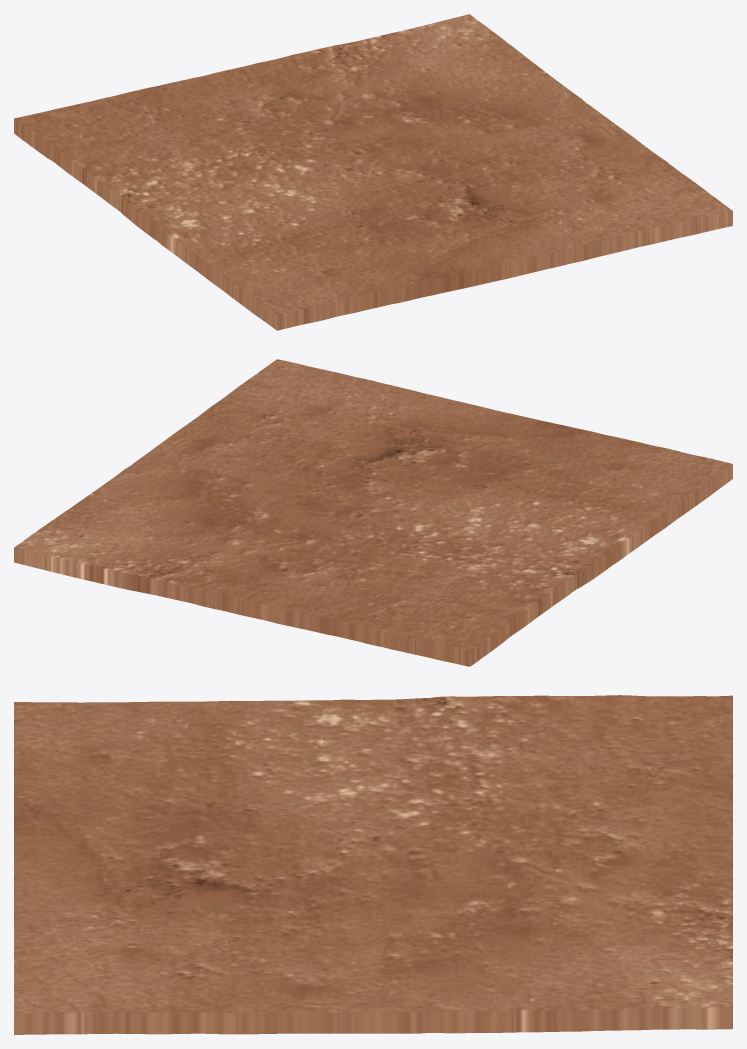
The picture shows the model from 3 angles, top to bottom: view 1: azimuth 30°, elevation 25°; view 2: azimuth 150°, elevation 25°; view 3: azimuth 270°, elevation 25°; orthographic projection. The views are drawn at different scales.
Visible parts, largest first — view 1: L6_33_13; view 2: L6_33_13; view 3: L6_33_13.
Boxes of the visible parts, x1,y1,x2,y2 form: L6_33_13: (14,14,732,330); L6_33_13: (14,359,732,666); L6_33_13: (14,695,732,1034).
Size of the model in its own units: 225 by 12.45 by 225.
Materials: 1 (1 with a texture image).
